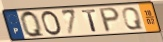7: (60, 7, 77, 36)
O: (40, 10, 63, 37)
P: (98, 7, 121, 34)
Q: (20, 10, 47, 39), (121, 6, 144, 31)
T: (80, 9, 98, 33)
